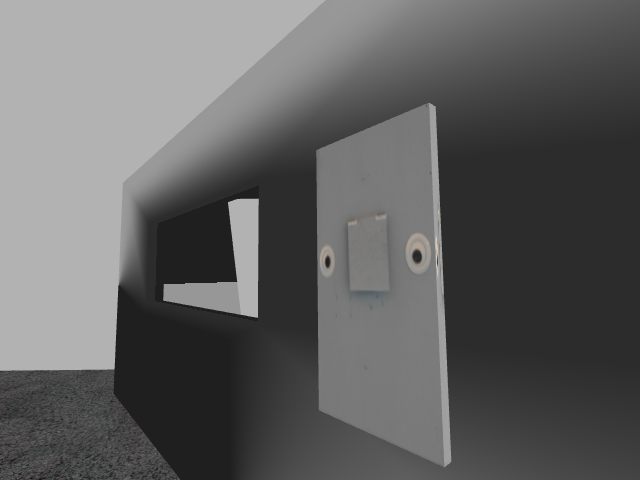facade: (318, 210, 432, 296)
